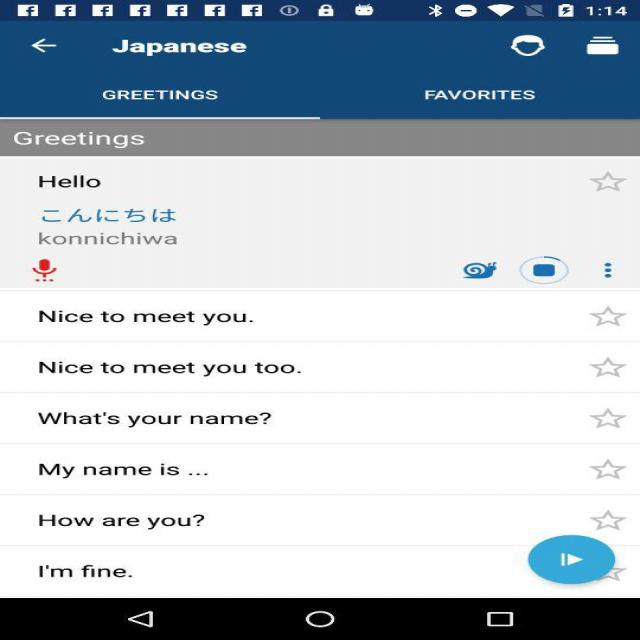button: (436, 236, 640, 285), (508, 533, 640, 589), (40, 79, 268, 109), (486, 21, 640, 65), (373, 89, 608, 114), (559, 299, 640, 346), (540, 168, 640, 196), (564, 502, 640, 537), (564, 355, 633, 386), (0, 255, 79, 281), (575, 455, 633, 490), (12, 37, 79, 62), (572, 407, 640, 430)
text: (9, 165, 229, 258), (8, 355, 389, 390), (9, 294, 307, 338), (21, 407, 339, 440), (19, 455, 283, 485), (12, 505, 257, 533), (90, 30, 292, 59), (0, 115, 171, 146), (19, 555, 158, 587)
